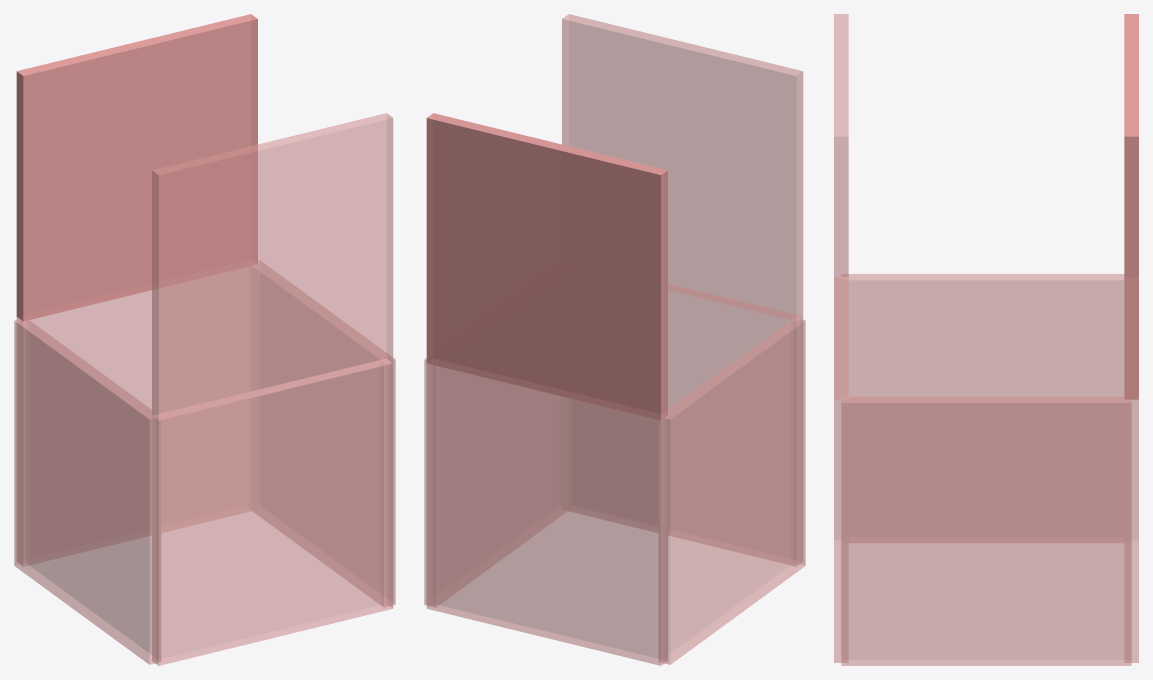
Rendered from torre_step7.glb.
The picture shows the model from 3 angles, left to right: view 1: azimuth 30°, elevation 25°; view 2: azimuth 150°, elevation 25°; view 3: azimuth 270°, elevation 25°; orthographic projection. The views are drawn at different scales.
Visible parts, largest first — view 1: qS.001, qN.001, qN, qS, qW, qE; view 2: qS.001, qS, qN.001, qN, qW, qE; view 3: qE, qW, qN.001, qS.001, qN, qS.
Boxes of the visible parts, x1,y1,x2,y2 form: qS.001: [16, 14, 257, 321]; qN.001: [152, 113, 393, 420]; qN: [152, 359, 393, 665]; qS: [16, 267, 251, 566]; qW: [14, 319, 160, 664]; qE: [253, 261, 395, 607]; qS.001: [426, 113, 667, 420]; qS: [426, 363, 667, 665]; qN.001: [562, 14, 803, 321]; qN: [568, 284, 803, 566]; qW: [659, 318, 805, 664]; qE: [424, 358, 566, 607]; qE: [841, 396, 1131, 665]; qW: [841, 274, 1124, 542]; qN.001: [834, 14, 848, 399]; qS.001: [1124, 14, 1138, 399]; qN: [834, 277, 848, 662]; qS: [1124, 399, 1138, 662].
Bounding box in the file's own units: 1.05 × 2 × 1.05.
